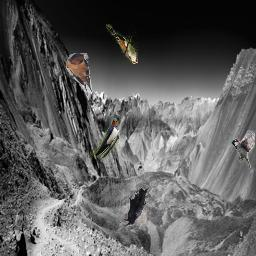Crow: (124, 186, 149, 226)
Cuckoo: (106, 24, 138, 64)
Sparrow: (231, 130, 255, 170)
Swallow: (89, 118, 119, 158), (66, 53, 92, 93)
